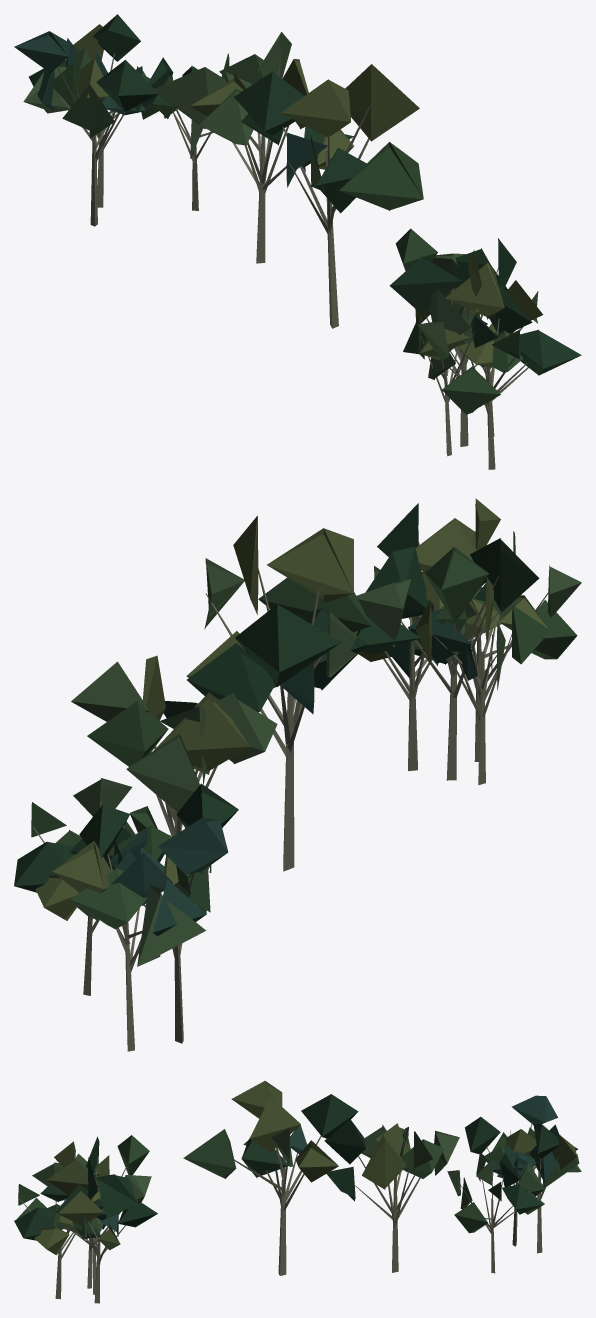
Rendered from forest_16_21.dae.
3 views of the same model, one above another, from view 1: azimuth 30°, elevation 25°; view 2: azimuth 150°, elevation 25°; view 3: azimuth 270°, elevation 25° (orthographic). The views are drawn at different scales.
Parts seen in each view (by area): view 1: Node; view 2: Node; view 3: Node.
Boxes of the visible parts, x1,y1,x2,y2 form: Node: (14,14,581,469); Node: (14,498,581,1051); Node: (14,1081,581,1303).
Size of the model in its own units: 3.03 by 9.55 by 3.92.
